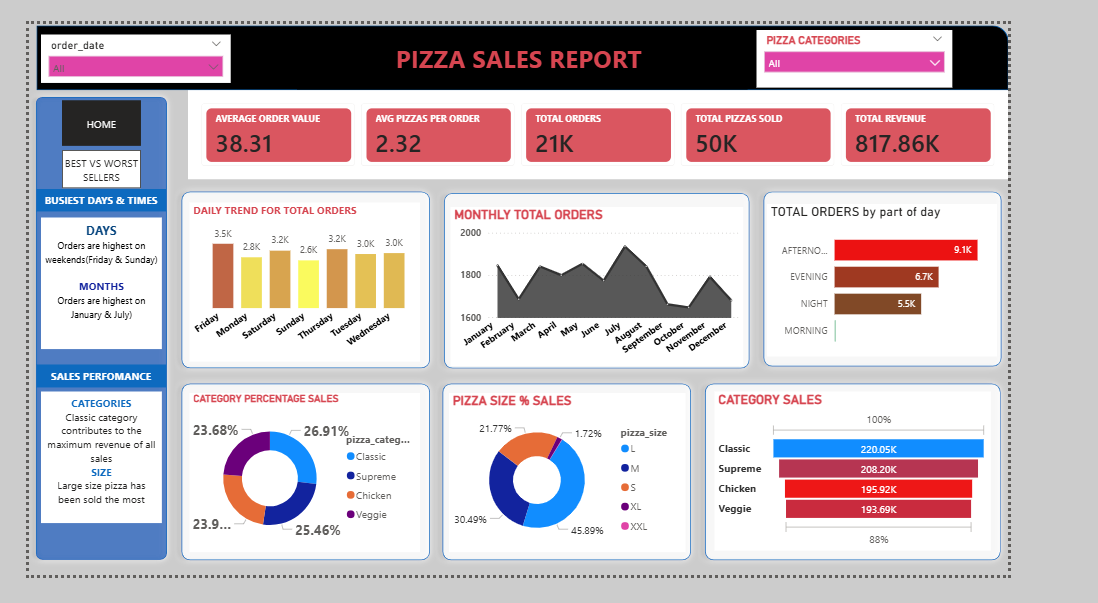

This screenshot's page, from the dashboard's own definition file:
{"tool":"powerbi","page":{"name":"HOME","canvas":[1280,720],"ordinal":0},"visuals":[{"type":"shape","box":[189.2,460,343.1,249.2],"z":0},{"type":"shape","box":[0,86.2,189.2,623.1],"z":1000},{"type":"cardVisual","fields":{"Data":["ANALYSIS.AVERAGE ORDER VALUE","ANALYSIS.AVG PIZZAS PER ORDER","ANALYSIS.TOTAL ORDERS","ANALYSIS.TOTAL PIZZAS SOLD","ANALYSIS.TOTAL REVENUE"]},"box":[207.7,86.2,1072.3,116.9],"z":2000},{"type":"shape","box":[189.2,209.2,343.1,249.2],"z":3000},{"type":"shape","box":[532.9,211.7,417.6,247.6],"z":4000},{"type":"shape","box":[9.2,1.5,1270.8,84.6],"z":5000},{"type":"shape","box":[532.3,461.5,343.1,249.2],"z":6000},{"type":"shape","box":[875.4,460,404.6,249.2],"z":7000},{"type":"textbox","box":[9.9,215.5,169,29.6],"z":8000},{"type":"textbox","box":[16,252,158,172],"z":9000},{"type":"donutChart","title":"CATEGORY PERCENTAGE SALES","fields":{"Category":["pizza_sales.pizza_category"],"Y":["ANALYSIS.TOTAL REVENUE"]},"box":[210.8,481.5,301.5,207.7],"z":10000},{"type":"donutChart","title":"PIZZA SIZE % SALES","fields":{"Category":["pizza_sales.pizza_size"],"Y":["ANALYSIS.TOTAL REVENUE"]},"box":[549.2,483.1,309.2,207.7],"z":11000},{"type":"funnel","title":"CATEGORY SALES","fields":{"Category":["pizza_sales.pizza_category"],"Y":["ANALYSIS.TOTAL REVENUE"]},"box":[895.4,480,361.5,207.7],"z":12000},{"type":"areaChart","title":"MONTHLY TOTAL ORDERS","fields":{"Category":["pizza_sales.Month Name"],"Y":["ANALYSIS.TOTAL ORDERS"]},"box":[550,238.5,382.7,207.7],"z":13000},{"type":"clusteredColumnChart","title":"DAILY TREND FOR TOTAL ORDERS","fields":{"Category":["pizza_sales.Day Name"],"Y":["ANALYSIS.TOTAL ORDERS"]},"box":[210.8,233.8,301.5,207.7],"z":14000},{"type":"textbox","box":[350.8,18.5,587.7,67.7],"z":15000},{"type":"textbox","box":[9,445,169,30],"z":16000},{"type":"textbox","box":[15,480,158,172],"z":17000},{"type":"slicer","fields":{"Values":["pizza_sales.pizza_category"]},"box":[950,7.7,255.8,75],"z":18000},{"type":"pageNavigator","box":[42.3,100,103.8,59.6],"z":19000},{"type":"pageNavigator","box":[42.3,165.4,103.8,50],"z":20000},{"type":"shape","box":[951,209.8,329.4,247.1],"z":21000},{"type":"slicer","fields":{"Values":["pizza_sales.order_date"]},"box":[15.4,13.5,248.1,63.5],"z":23000},{"type":"clusteredBarChart","fields":{"Category":["pizza_sales.part of day"],"Y":["ANALYSIS.TOTAL ORDERS"]},"box":[965.5,234.5,300.9,199.4],"z":23001}]}

Visuals, with their boxes in screenshot pixels (x1, y1, x2, y2), scaled from the page's 1280x720 canvas onto the 1098x603 screenshot:
shape: (162,385,457,594)
shape: (0,72,162,594)
cardVisual - ANALYSIS.AVERAGE ORDER VALUE x ANALYSIS.AVG PIZZAS PER ORDER: (178,72,1097,170)
shape: (162,175,457,384)
shape: (457,177,815,385)
shape: (8,1,1097,72)
shape: (457,387,751,595)
shape: (751,385,1097,594)
textbox: (8,180,153,205)
textbox: (14,211,149,355)
"CATEGORY PERCENTAGE SALES" donutChart: (181,403,439,577)
"PIZZA SIZE % SALES" donutChart: (471,405,736,579)
"CATEGORY SALES" funnel: (768,402,1078,576)
"MONTHLY TOTAL ORDERS" areaChart: (472,200,800,374)
"DAILY TREND FOR TOTAL ORDERS" clusteredColumnChart: (181,196,439,370)
textbox: (301,15,805,72)
textbox: (8,373,153,398)
textbox: (13,402,148,546)
slicer - pizza_sales.pizza_category: (815,6,1034,69)
pageNavigator: (36,84,125,134)
pageNavigator: (36,139,125,180)
shape: (816,176,1097,383)
slicer - pizza_sales.order_date: (13,11,226,64)
clusteredBarChart - pizza_sales.part of day x ANALYSIS.TOTAL ORDERS: (828,196,1086,363)
